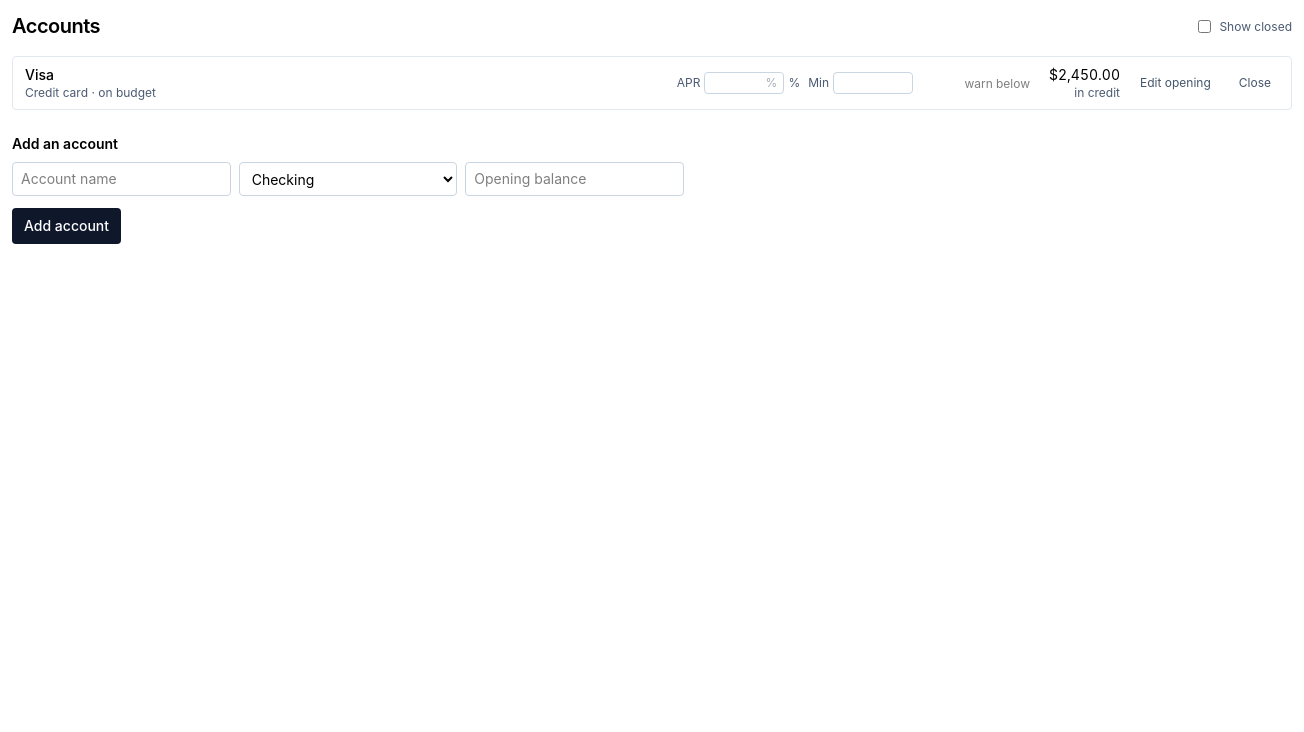
Scenario: debts are entered and shown as amounts owed (repair list) › corrects an opening balance entered with the wrong sign, from the keyboard
Click the button with aria-label "Edit opening balance for Visa". click: (1175, 83)
box: [1132, 71, 1219, 95]
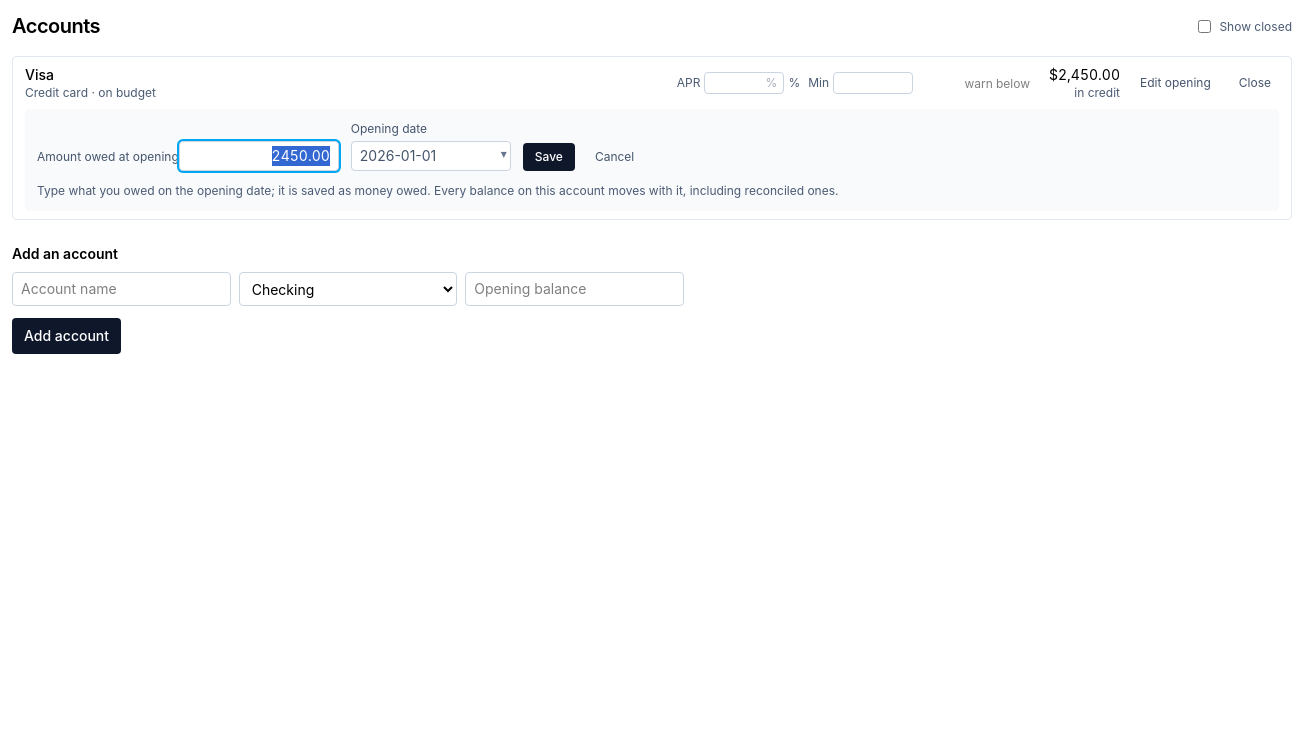
Now the field labelled "Amount owed at opening" holds "2450.00", box [179, 141, 339, 171]
Press Enter
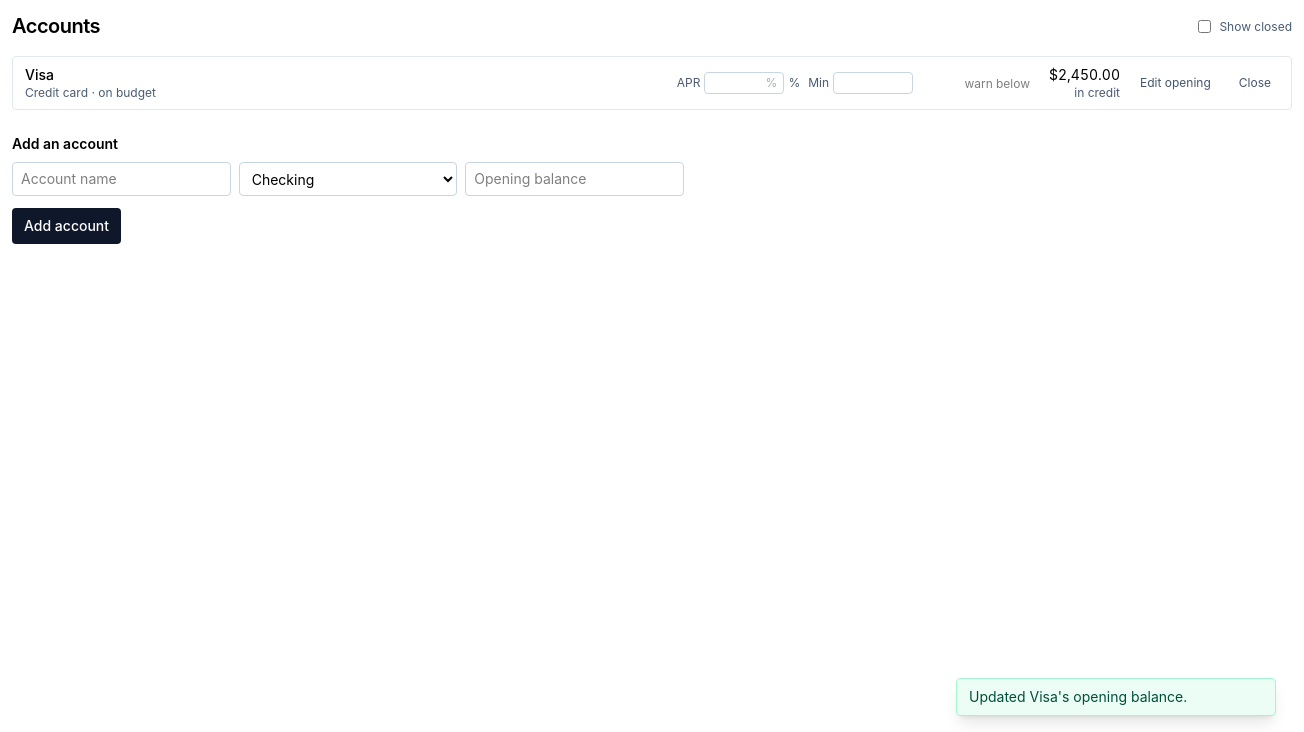
Now the label labelled "Amount owed at opening" is gone
